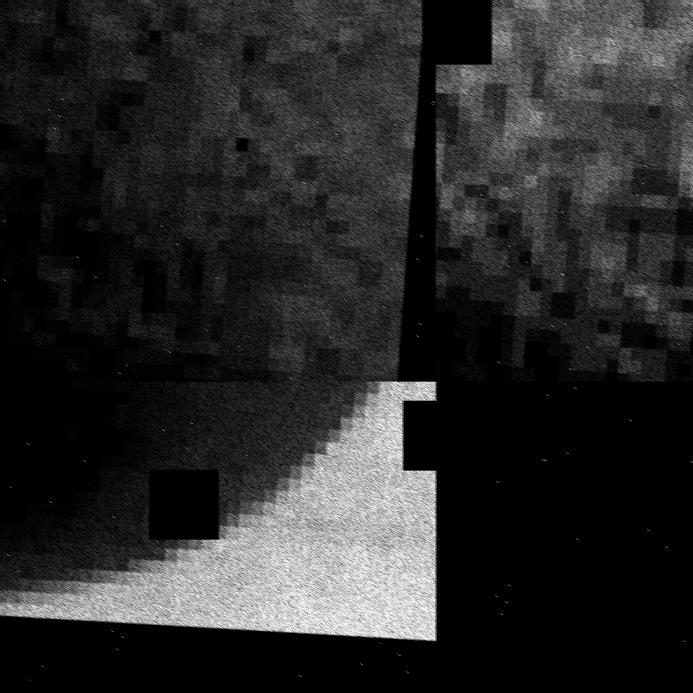AirbagV2: (0, 0, 436, 381), (0, 381, 436, 648), (436, 0, 693, 381)
